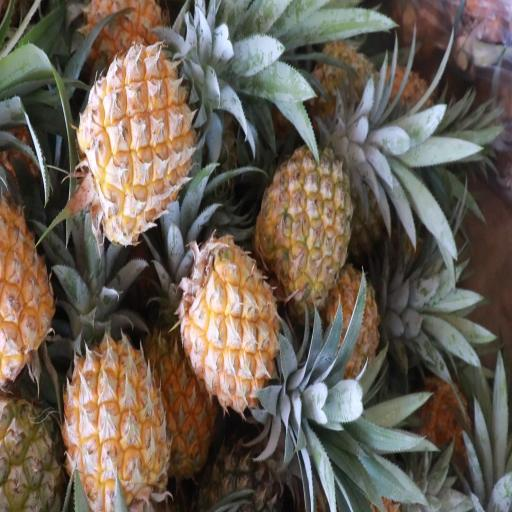------------------------------: (259, 142, 353, 301)
Pineapple - v8 v1: (78, 46, 200, 239), (66, 329, 169, 512), (182, 231, 280, 407), (0, 187, 55, 376), (146, 328, 216, 476)
